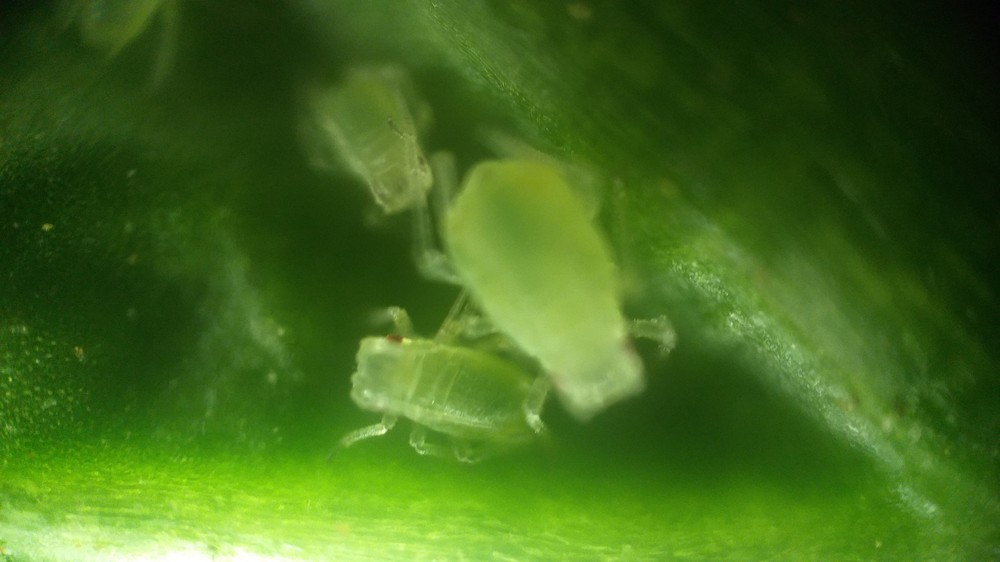Pulgon: (409, 134, 716, 425), (332, 295, 572, 462), (289, 46, 472, 237)
